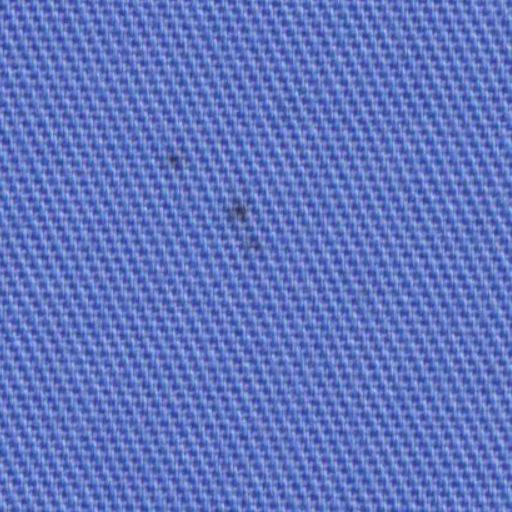WuZi: (224, 183, 276, 258), (150, 135, 198, 176)
